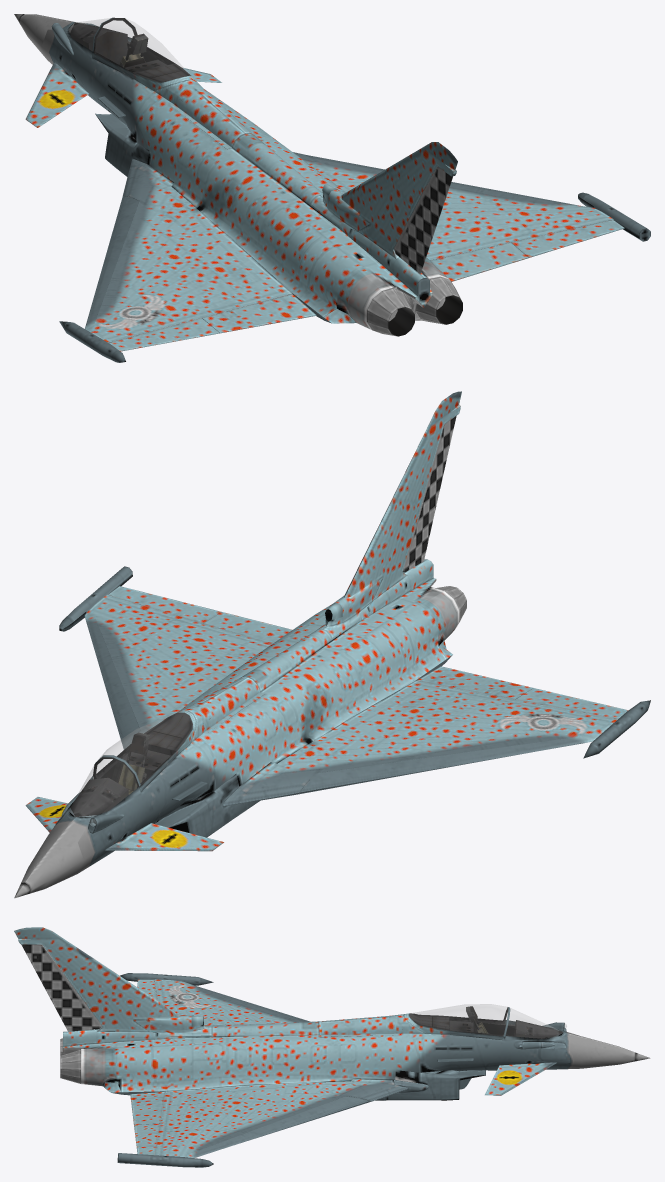
Rendered from geckls_ef2000.glb.
3 views of the same model, one above another, from view 1: azimuth 30°, elevation 25°; view 2: azimuth 150°, elevation 25°; view 3: azimuth 270°, elevation 25° (orthographic). The views are drawn at different scales.
Parts seen in each view (by area): view 1: f_2000a_aesa_2.010, f_2000a_aesa_2.012, f_2000a_aesa_2.011, f_2000a_aesa_2.013; view 2: f_2000a_aesa_2.010, f_2000a_aesa_2.012, f_2000a_aesa_2.011, f_2000a_aesa_2.013; view 3: f_2000a_aesa_2.010, f_2000a_aesa_2.012, f_2000a_aesa_2.011.
Part boxes in pixels (bbox=[...]): f_2000a_aesa_2.010: bbox=[14, 14, 650, 362]; f_2000a_aesa_2.012: bbox=[69, 18, 190, 82]; f_2000a_aesa_2.011: bbox=[70, 17, 190, 82]; f_2000a_aesa_2.013: bbox=[119, 33, 148, 67]; f_2000a_aesa_2.010: bbox=[14, 391, 650, 898]; f_2000a_aesa_2.012: bbox=[69, 713, 192, 825]; f_2000a_aesa_2.011: bbox=[70, 712, 192, 816]; f_2000a_aesa_2.013: bbox=[117, 732, 149, 794]; f_2000a_aesa_2.010: bbox=[14, 927, 650, 1167]; f_2000a_aesa_2.012: bbox=[409, 1004, 566, 1038]; f_2000a_aesa_2.011: bbox=[409, 1007, 562, 1038].
Bounding box in the file's own units: 11.01 × 4.5 × 15.95.
Materials: 4 (3 with a texture image).
